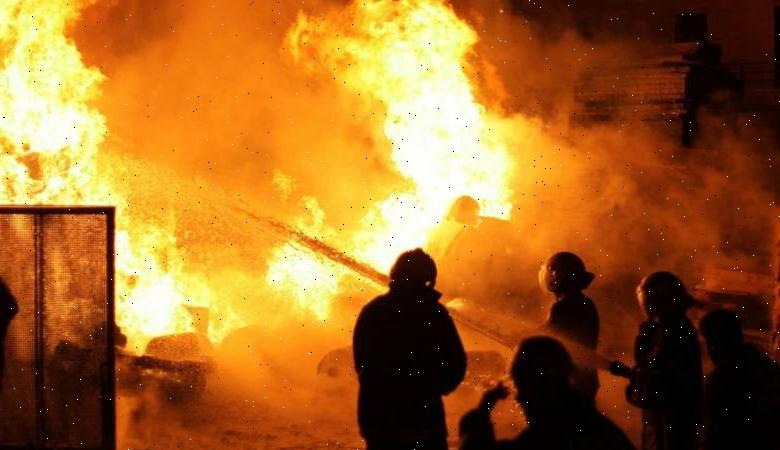fire: (292, 0, 537, 230), (0, 0, 257, 201), (116, 220, 388, 352)
